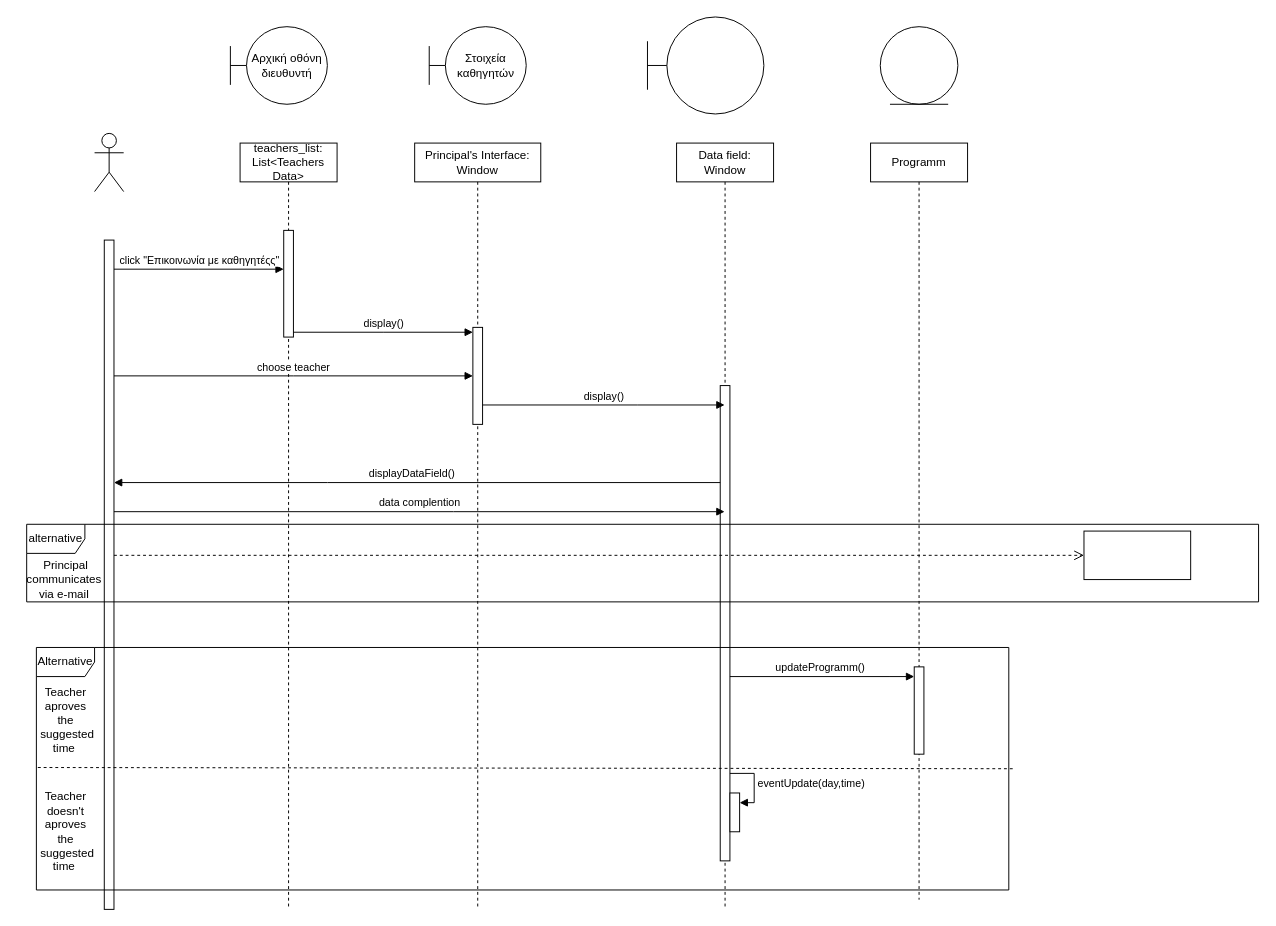
Image size: 1276x926. Some labels were removed from this diagram. Here are the shapes that lost their labels. From the top down, the centre of each, then its label:
At (x=705, y=65): "Φόρμα λόγου επικοινωνίας και προτεινόμενη μέρα και ώρα συνάντησης".
At (x=918, y=65): "Πρόγραμμα".
At (x=109, y=162): "Διευθυντής".
At (x=1137, y=555): ":email".
